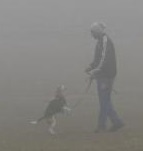person: (82, 18, 126, 134)
